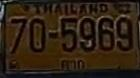0: (29, 18, 45, 52)
5: (60, 17, 77, 51)
6: (98, 17, 114, 50)
7: (11, 18, 26, 53)
9: (116, 16, 132, 50), (79, 18, 95, 50)
TAK: (59, 58, 87, 71)
